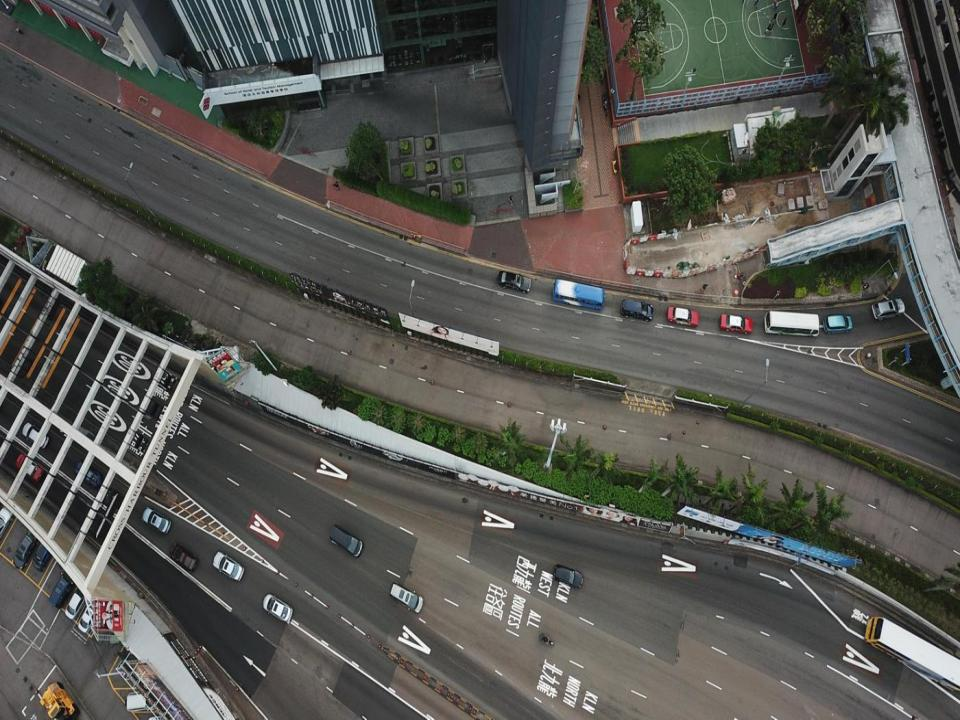bus: (864, 616, 960, 692), (553, 278, 604, 310), (764, 310, 819, 336)
car: (12, 530, 39, 569), (213, 551, 244, 581), (15, 452, 43, 482), (262, 594, 292, 622), (74, 459, 102, 488), (142, 506, 171, 534), (169, 542, 197, 571), (498, 270, 531, 294), (65, 584, 87, 619), (78, 600, 100, 634), (32, 539, 52, 572), (720, 314, 752, 334), (667, 306, 699, 326), (0, 506, 13, 541)
van: (330, 524, 363, 558), (48, 566, 74, 608), (389, 582, 424, 613), (125, 689, 160, 712), (872, 297, 905, 320), (620, 300, 654, 322), (22, 421, 49, 448), (553, 564, 583, 588), (823, 314, 852, 334)
